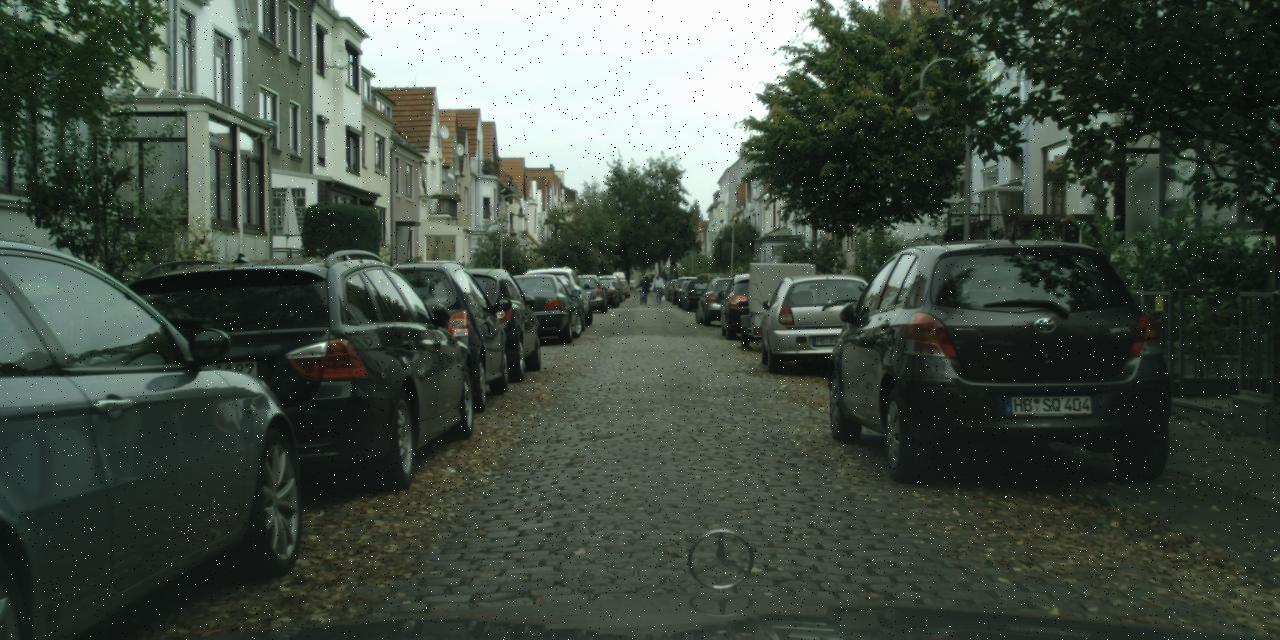ped: (652, 274, 664, 302), (638, 275, 648, 303)
